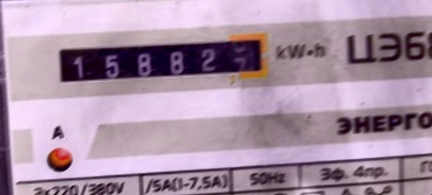1: (72, 49, 86, 79)
2: (199, 45, 217, 71)
5: (103, 50, 121, 80)
7: (232, 52, 246, 70)
8: (135, 48, 152, 77), (168, 46, 185, 75)
screen: (47, 22, 276, 93)
